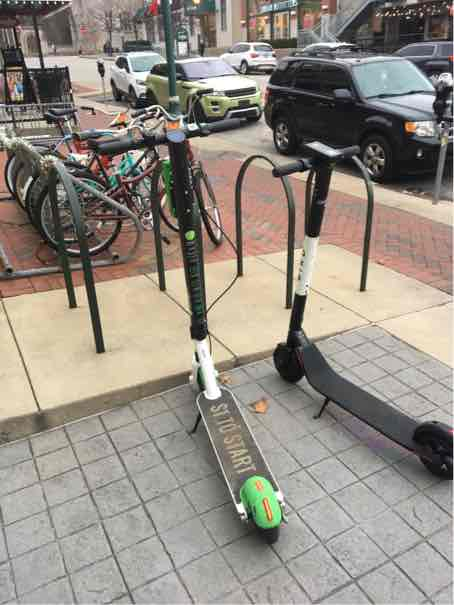scooter: (93, 107, 310, 541)
